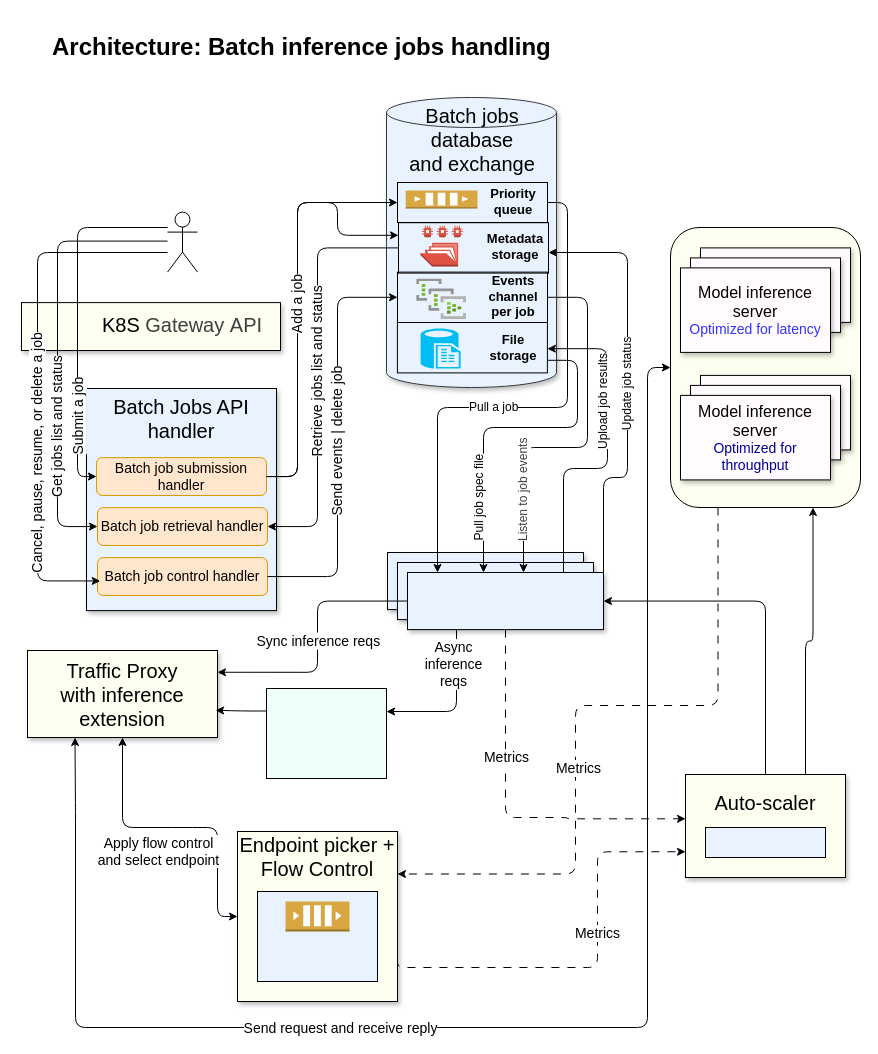
The diagram is 878 pixels wide and 1054 high, and some of its shapes have lost their labels. The shapes that lost their labels are listed below. From the top down, each one's centre as x and y in pixels, then its label:
At pixel 182 241: "Client".
At pixel 506 602: "Batch Job Processor".
At pixel 326 733: "Asynchronous individual requests mechanism".
At pixel 765 842: "Batch support".
At pixel 317 916: "Batch support in Flow control".
